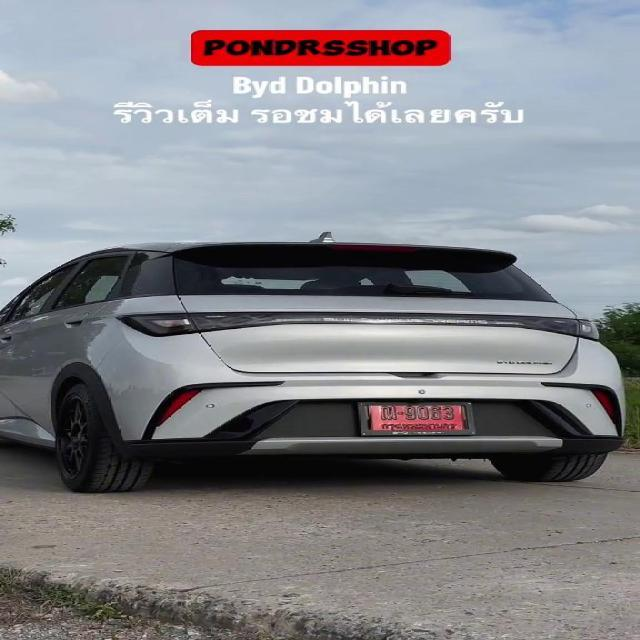Hatchback: (0, 238, 624, 492)
